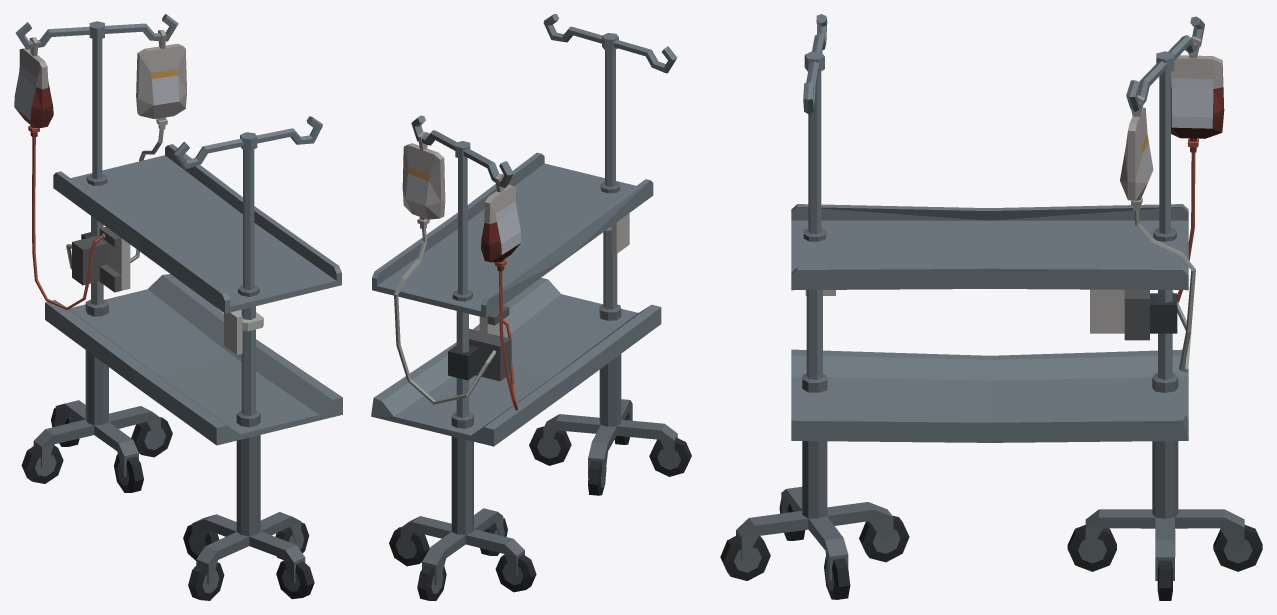
The model's file is SM_Prop_Medic_IV_01.glb.
3 renders of one model, left to right at view 1: azimuth 30°, elevation 25°; view 2: azimuth 150°, elevation 25°; view 3: azimuth 270°, elevation 25°, orthographic. The views are drawn at different scales.
Visible parts, largest first — view 1: SM_Prop_Medic_IV_01; view 2: SM_Prop_Medic_IV_01; view 3: SM_Prop_Medic_IV_01.
Boxes of the visible parts, <box> form: SM_Prop_Medic_IV_01: <box>14,14,342,600</box>; SM_Prop_Medic_IV_01: <box>371,14,691,600</box>; SM_Prop_Medic_IV_01: <box>720,14,1262,600</box>.
Bounding box in the file's own units: 0.5989 × 1.64 × 1.55.
Materials: 1 (1 with a texture image).
